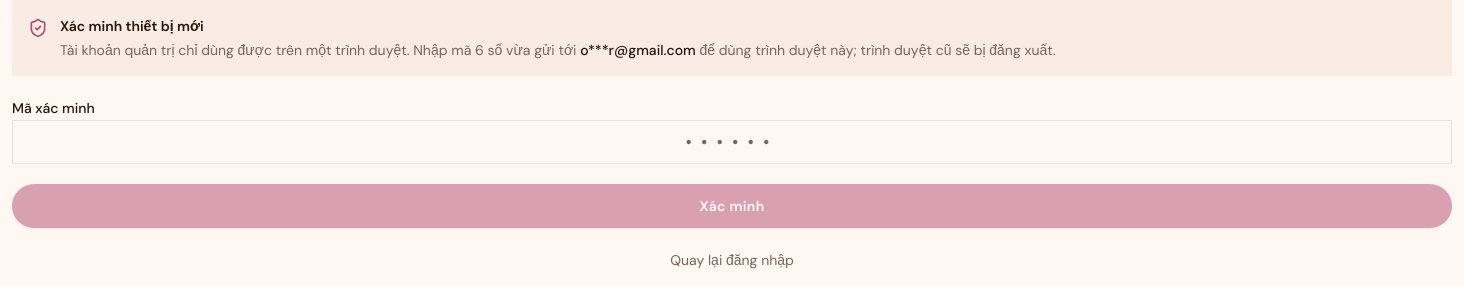
Test case: admin new-device code step › takes digits only and waits for all six
Type "12a3" into the field labelled "Mã xác minh" at (732, 142), box [12,120,1452,164]
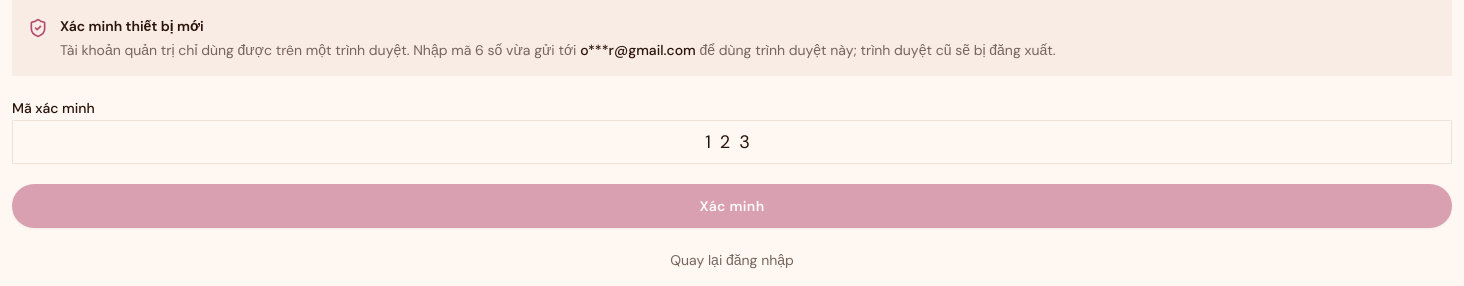
Check: the button "Xác minh" is disabled, box [12,184,1452,228]
Check: the field labelled "Mã xác minh" holds "123"
Replace the text in the field labelled "Mã xác minh" with "123456" at (732, 142), box [12,120,1452,164]
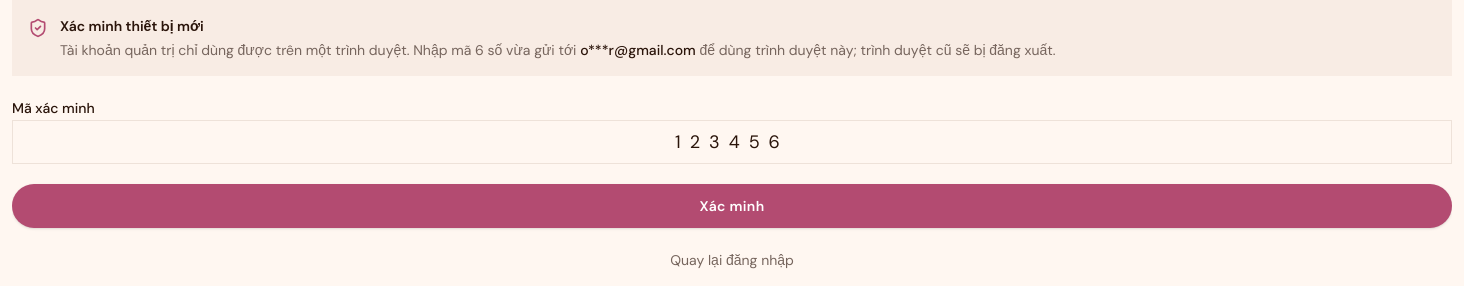
Check: the button "Xác minh" is enabled, box [12,184,1452,228]
